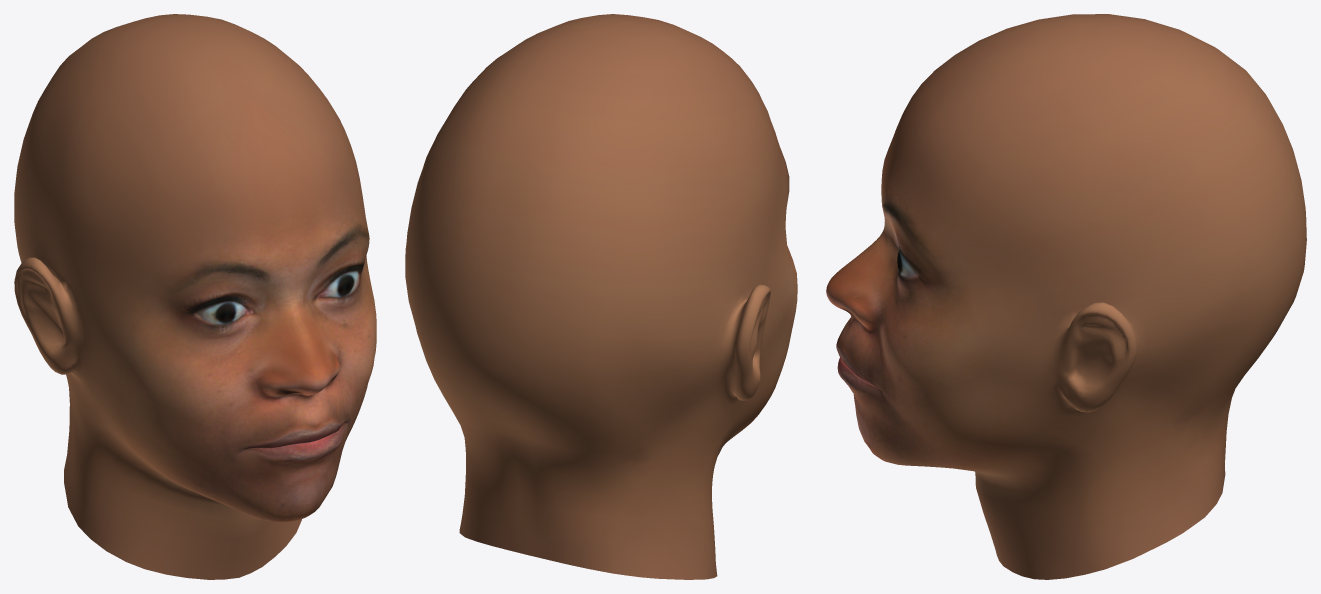
Rendered from v332_obj_ModifierChinRaiser(AU17).obj.
3 renders of one model, left to right at view 1: azimuth 30°, elevation 25°; view 2: azimuth 150°, elevation 25°; view 3: azimuth 270°, elevation 25°, orthographic. The views are drawn at different scales.
Parts seen in each view (by area): view 1: HeadHires; view 2: HeadHires; view 3: HeadHires.
Part boxes in pixels (x1,y1,x2,y2): HeadHires: (14, 14, 376, 579); HeadHires: (405, 14, 797, 579); HeadHires: (826, 14, 1306, 579).
Bounding box in the file's own units: 187 × 282 × 233.
